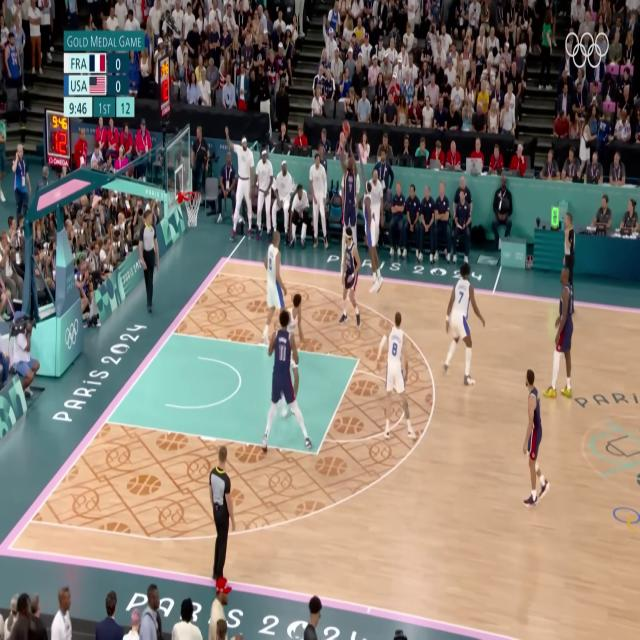ball-handler: (331, 108, 360, 229)
player: (366, 304, 421, 446), (260, 304, 306, 457), (440, 258, 491, 386), (516, 358, 556, 500), (548, 260, 578, 396), (257, 235, 291, 338), (336, 227, 366, 324), (360, 159, 381, 283), (284, 286, 308, 348)
